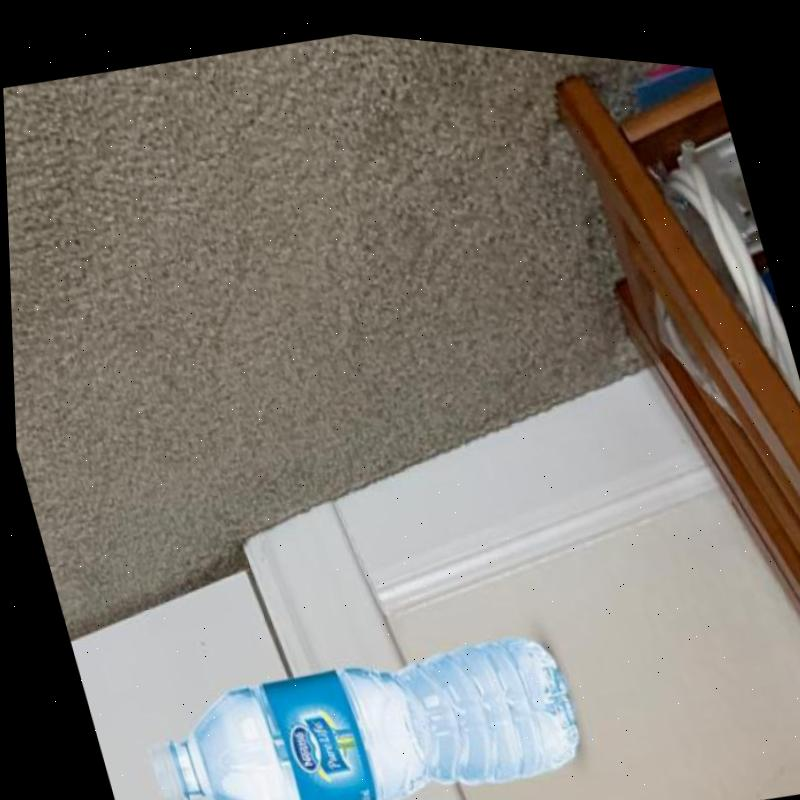botella: (123, 590, 585, 800)
